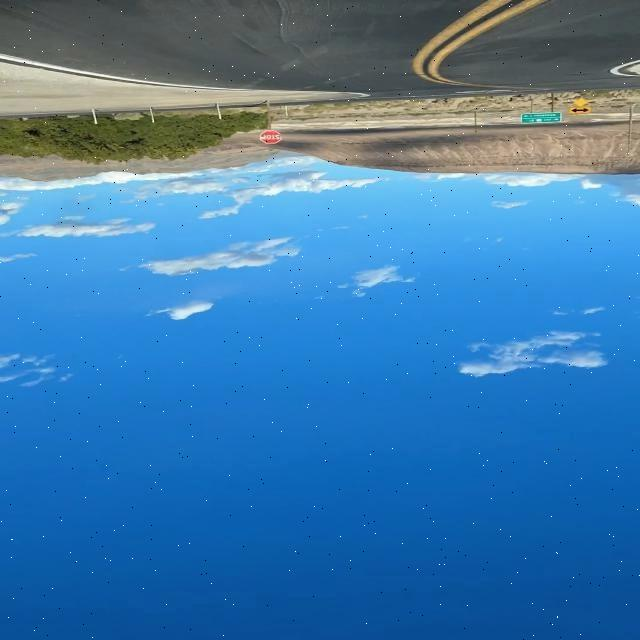lane: (412, 1, 546, 85), (0, 53, 251, 91), (610, 59, 639, 76)
road: (1, 1, 640, 98)
